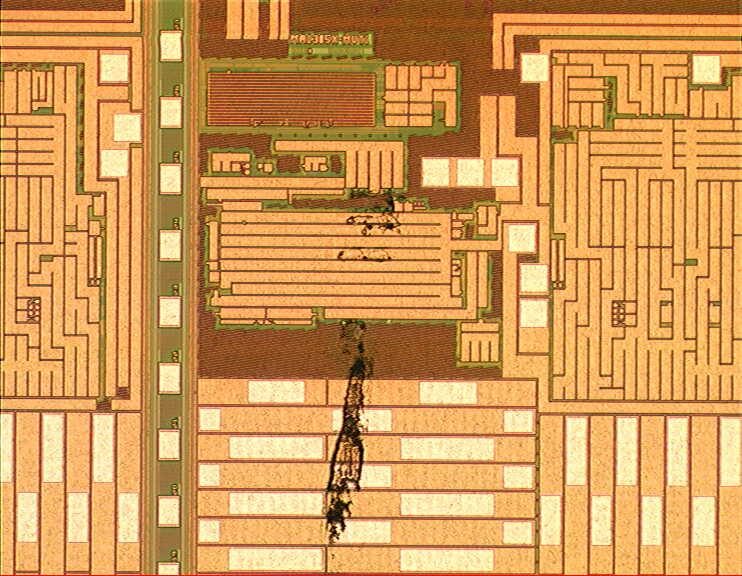SCRATCH: (314, 166, 417, 576)
